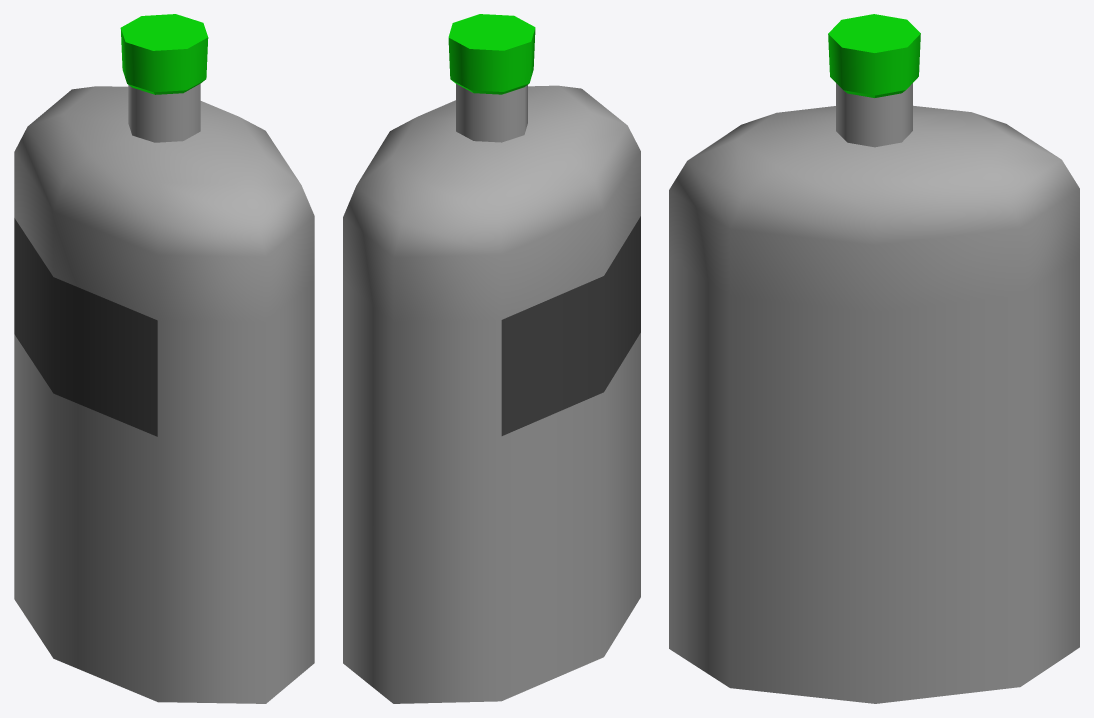
File: Bottle_1.fbx
3 renders of one model, left to right at view 1: azimuth 30°, elevation 25°; view 2: azimuth 150°, elevation 25°; view 3: azimuth 270°, elevation 25°, orthographic. The views are drawn at different scales.
Visible parts, largest first — view 1: Kitchen_Bottle_1; view 2: Kitchen_Bottle_1; view 3: Kitchen_Bottle_1.
Part boxes in pixels (box(x1,y1,x2,y2)): Kitchen_Bottle_1: box(14, 14, 314, 703); Kitchen_Bottle_1: box(343, 14, 640, 703); Kitchen_Bottle_1: box(669, 14, 1079, 703).
Bounding box in the file's own units: 10.86 × 27.85 × 16.88.
